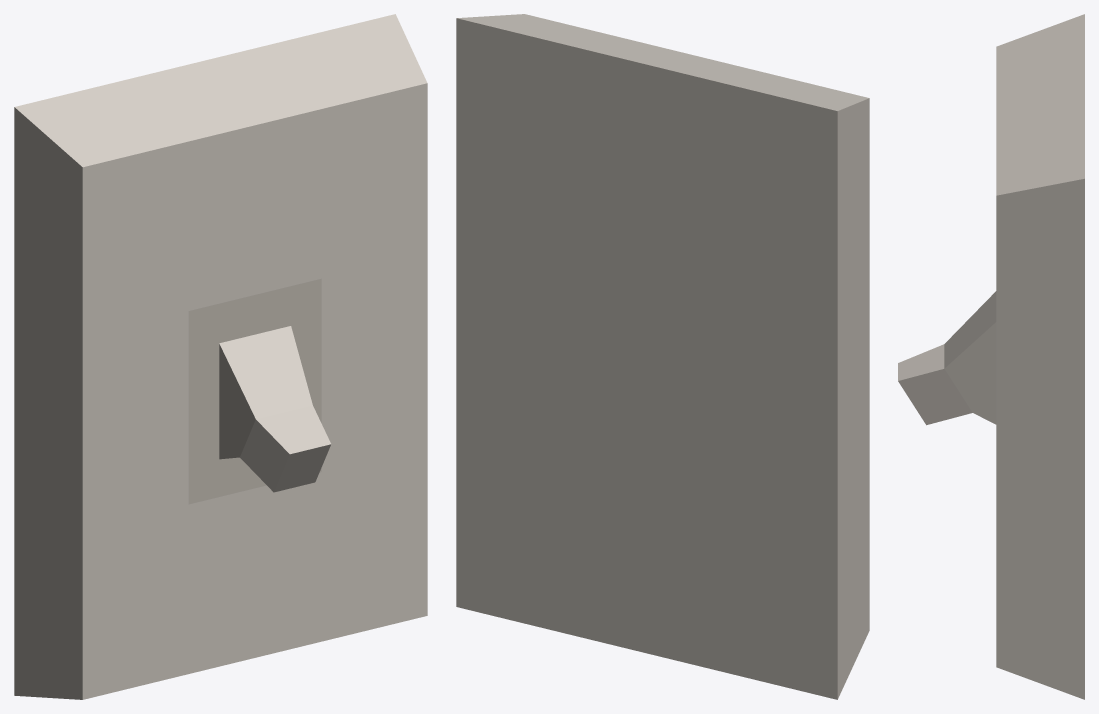
File: SM_Prop_Lightswitch_01.fbx
3 renders of one model, left to right at view 1: azimuth 30°, elevation 25°; view 2: azimuth 150°, elevation 25°; view 3: azimuth 270°, elevation 25°, orthographic. The views are drawn at different scales.
Parts seen in each view (by area): view 1: SM_Prop_Lightswitch_01; view 2: SM_Prop_Lightswitch_01; view 3: SM_Prop_Lightswitch_01.
Boxes of the visible parts, x1,y1,x2,y2 form: SM_Prop_Lightswitch_01: (14, 14, 427, 699); SM_Prop_Lightswitch_01: (456, 14, 869, 699); SM_Prop_Lightswitch_01: (898, 14, 1084, 699).
Bounding box in the file's own units: 12.07 × 17.81 × 5.79.
